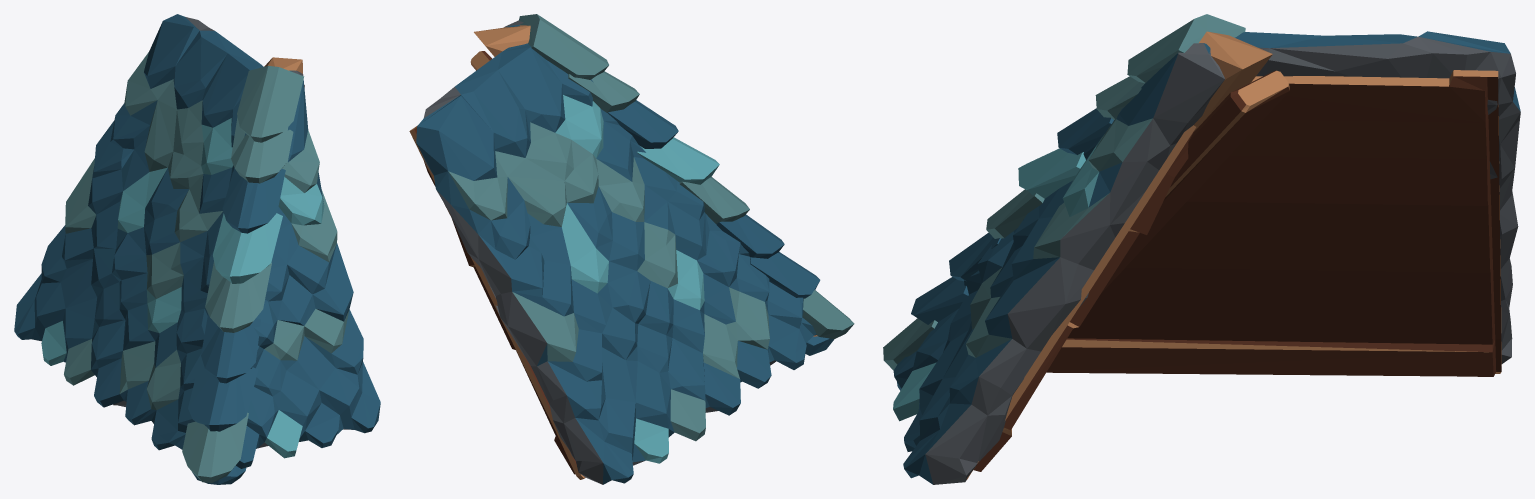
File: MCastle_Roofs_07.FBX
3 renders of one model, left to right at view 1: azimuth 30°, elevation 25°; view 2: azimuth 150°, elevation 25°; view 3: azimuth 270°, elevation 25°, orthographic. The views are drawn at different scales.
Visible parts, largest first — view 1: MCastle_Roofs_07_LOD0; view 2: MCastle_Roofs_07_LOD0; view 3: MCastle_Roofs_07_LOD0.
Boxes of the visible parts, left/top/right/bottom form: MCastle_Roofs_07_LOD0: left=14, top=14, right=380, bottom=484; MCastle_Roofs_07_LOD0: left=409, top=14, right=854, bottom=484; MCastle_Roofs_07_LOD0: left=883, top=14, right=1520, bottom=484.
Size of what is drawn, in the model's own units: 3.72 by 5.09 by 6.07.
